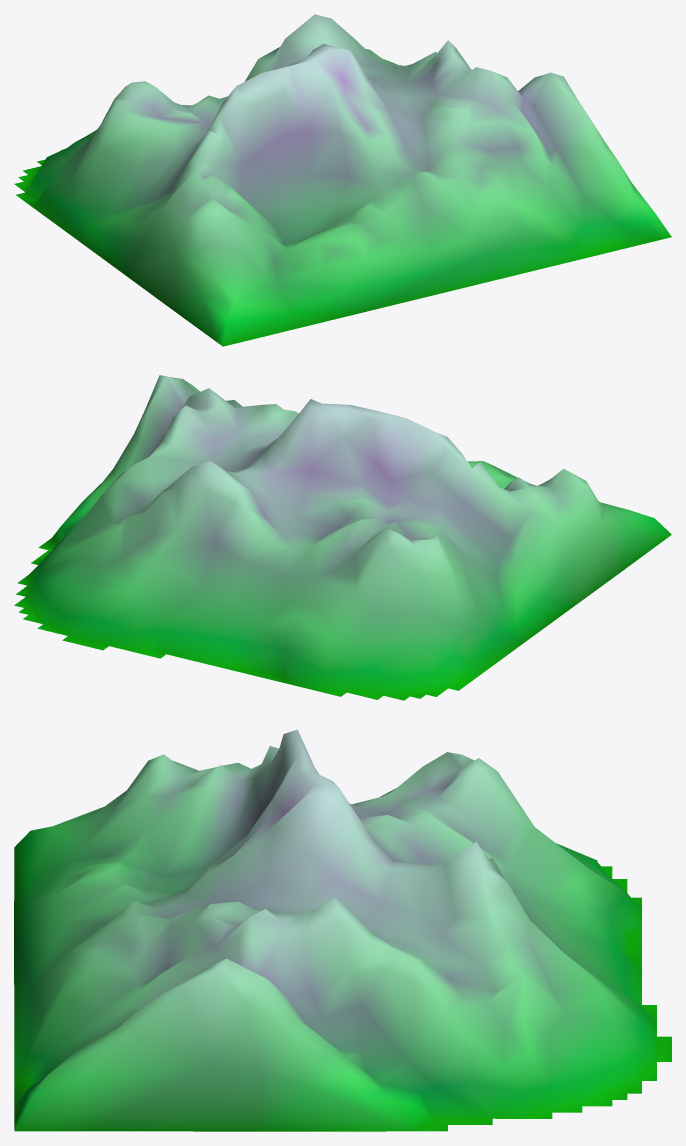
File: mountain_c.glb
3 views of the same model, one above another, from view 1: azimuth 30°, elevation 25°; view 2: azimuth 150°, elevation 25°; view 3: azimuth 270°, elevation 25° (orthographic). The views are drawn at different scales.
Parts seen in each view (by area): view 1: mountain_c; view 2: mountain_c; view 3: mountain_c.
Part boxes in pixels (box(x1,y1,x2,y2)): mountain_c: box(14, 14, 671, 346); mountain_c: box(14, 375, 671, 700); mountain_c: box(14, 729, 671, 1131).
Size of the model in its own units: 1 by 0.3355 by 0.9784.
